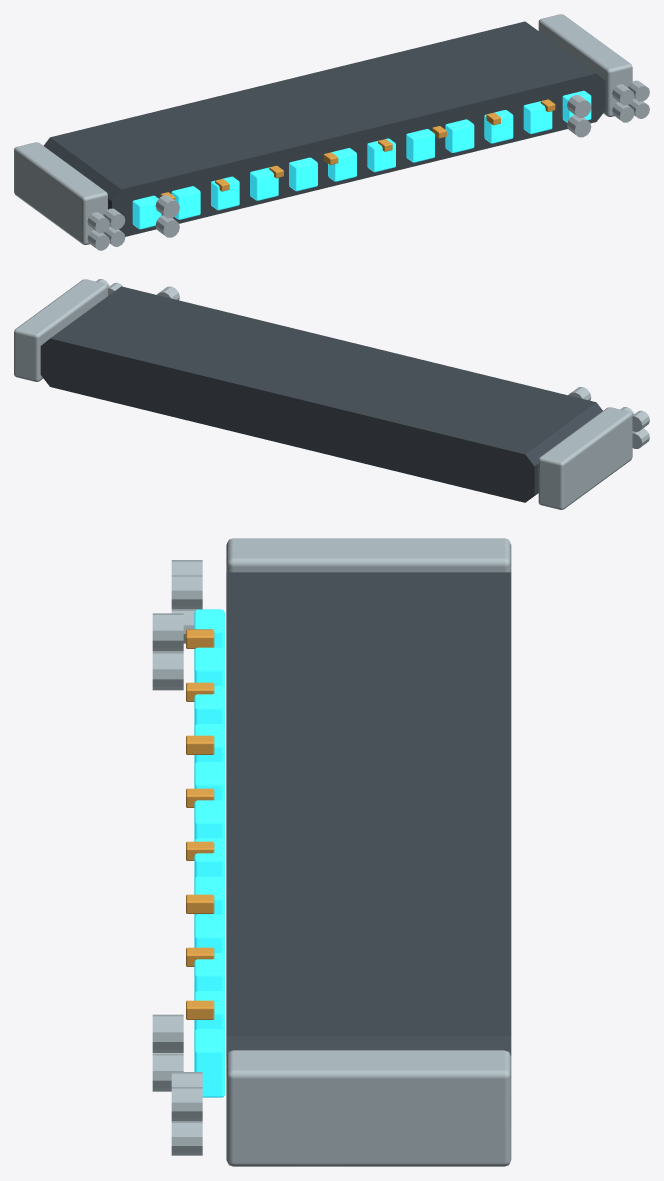
The model's file is data-centre-infiltration-kit-data-centre-infiltration--d7442d46__29245.glb.
3 views of the same model, one above another, from view 1: azimuth 30°, elevation 25°; view 2: azimuth 150°, elevation 25°; view 3: azimuth 270°, elevation 25° (orthographic). The views are drawn at different scales.
Parts seen in each view (by area): view 1: data-centre-infiltration-kit-patch-panel; view 2: data-centre-infiltration-kit-patch-panel; view 3: data-centre-infiltration-kit-patch-panel.
Part boxes in pixels (x1=…): data-centre-infiltration-kit-patch-panel: x1=14, y1=14, x2=649, y2=250; data-centre-infiltration-kit-patch-panel: x1=14, y1=279, x2=649, y2=509; data-centre-infiltration-kit-patch-panel: x1=152, y1=538, x2=511, y2=1166.
Size of the model in its own units: 0.5394 by 0.045 by 0.151.
